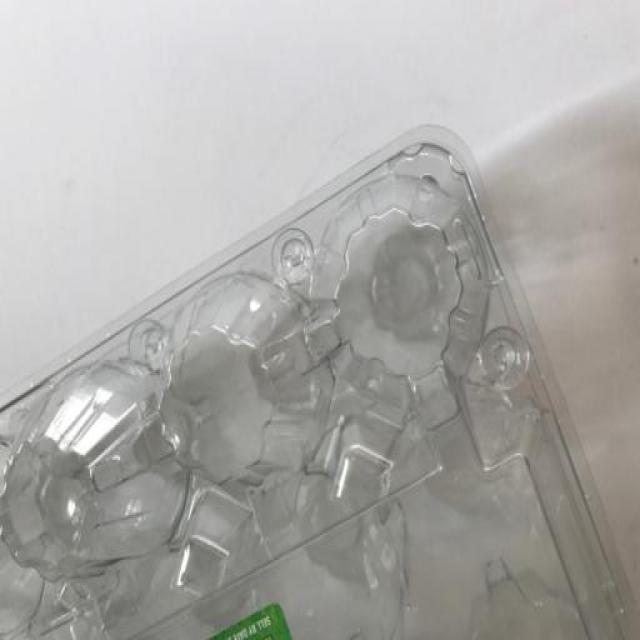plastic: (2, 104, 640, 640)
